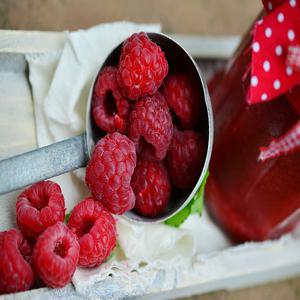raspb: (1, 26, 210, 300)
